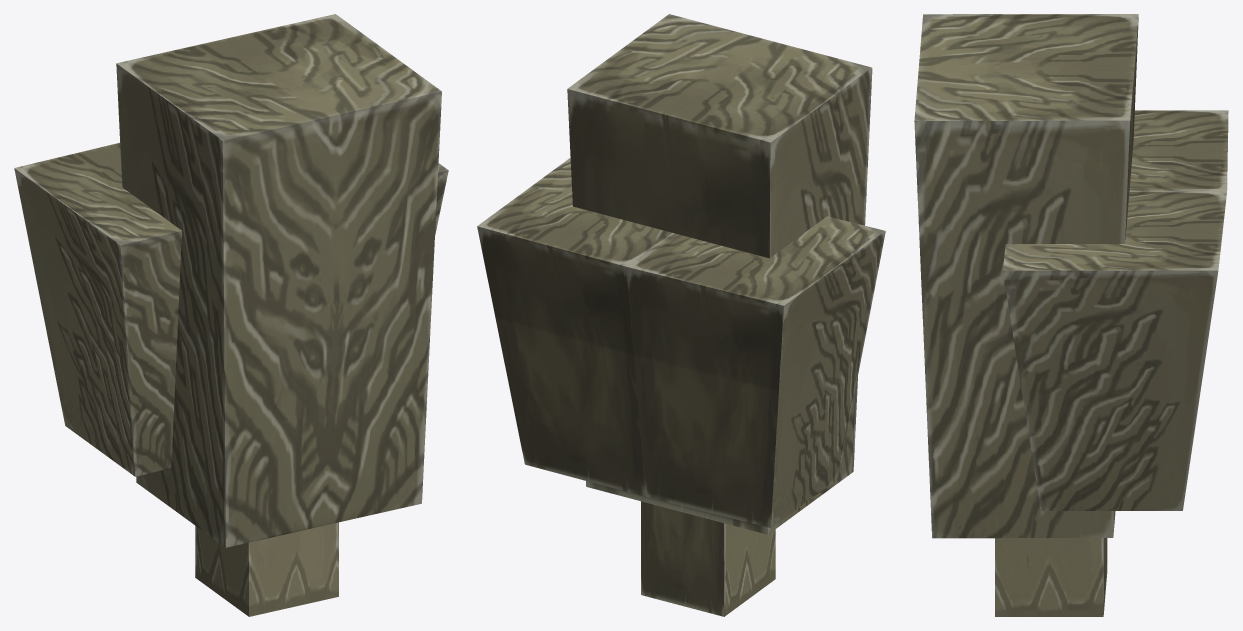
The model's file is pillar_mid.fbx.
The picture shows the model from 3 angles, left to right: view 1: azimuth 30°, elevation 25°; view 2: azimuth 150°, elevation 25°; view 3: azimuth 270°, elevation 25°; orthographic projection. The views are drawn at different scales.
Parts seen in each view (by area): view 1: polySurface96; view 2: polySurface96; view 3: polySurface96.
Part boxes in pixels (x1,y1,x2,y2): polySurface96: (14,14,448,616); polySurface96: (477,14,885,616); polySurface96: (914,14,1228,616).
Size of the model in its own units: 0.6362 by 0.9745 by 0.5258.
